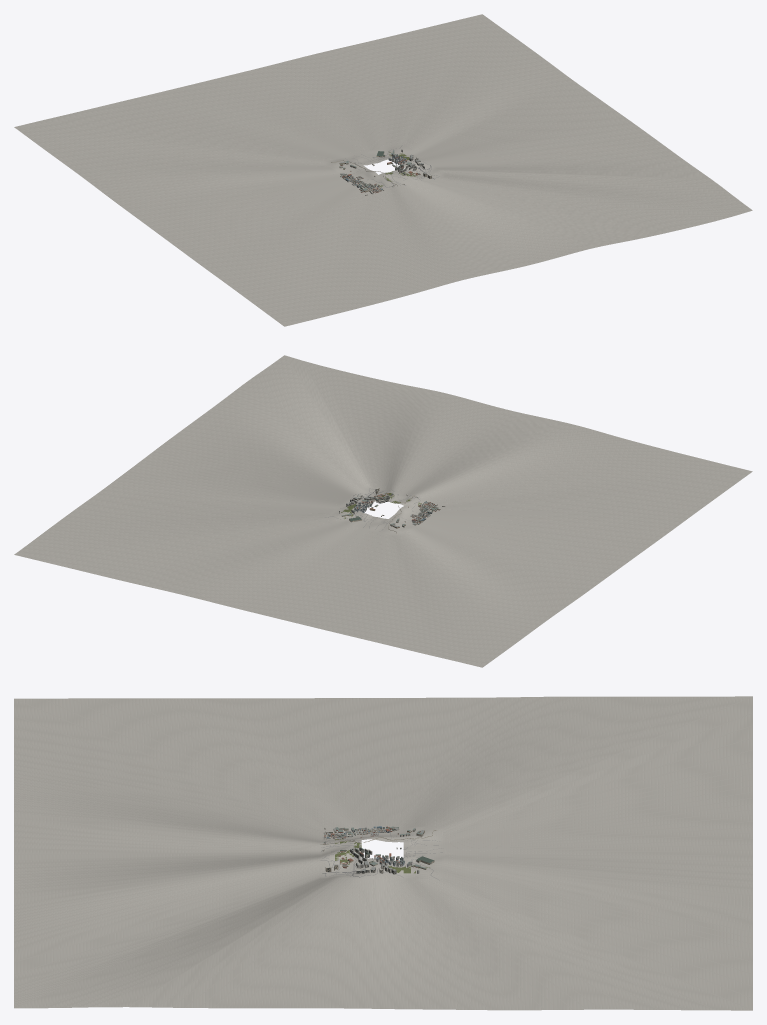
3 renders of one model, top to bottom at view 1: azimuth 30°, elevation 25°; view 2: azimuth 150°, elevation 25°; view 3: azimuth 270°, elevation 25°, orthographic. The views are drawn at different scales.
Visible parts, largest first — view 1: ctx-ground, ctx-buildings; view 2: ctx-ground, ctx-buildings; view 3: ctx-ground, ctx-buildings.
Boxes of the visible parts, x1,y1,x2,y2 form: ctx-ground: [14, 14, 752, 326]; ctx-buildings: [339, 149, 431, 195]; ctx-ground: [14, 355, 752, 667]; ctx-buildings: [339, 487, 445, 528]; ctx-ground: [14, 696, 752, 1010]; ctx-buildings: [322, 826, 434, 874].
Bounding box in the file's own units: 7600 × 110 × 7600.
14 materials, 13 textured.
